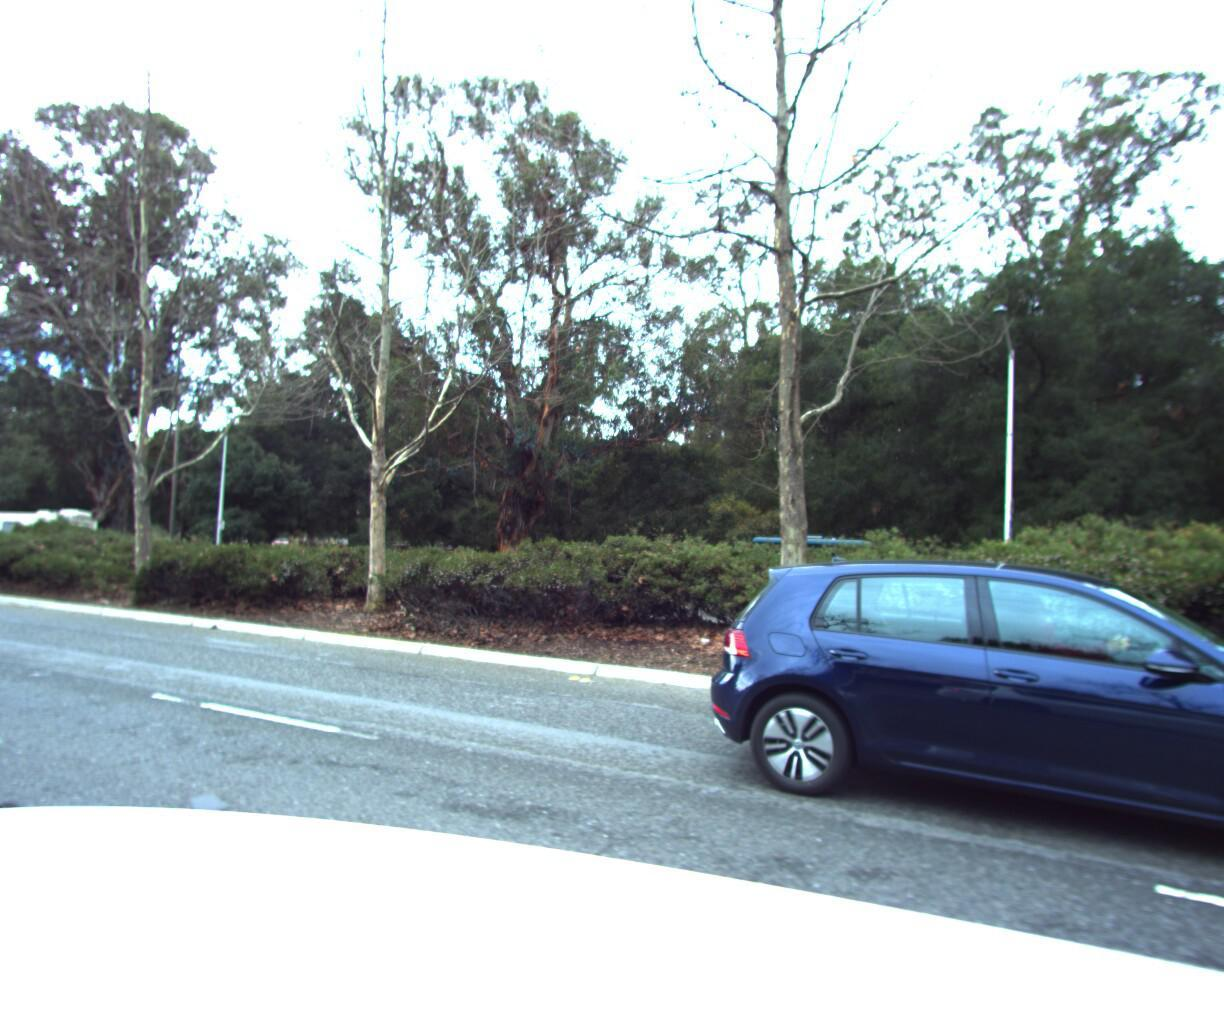car: (678, 536, 1224, 929)
other_vehicle: (0, 501, 103, 556)
